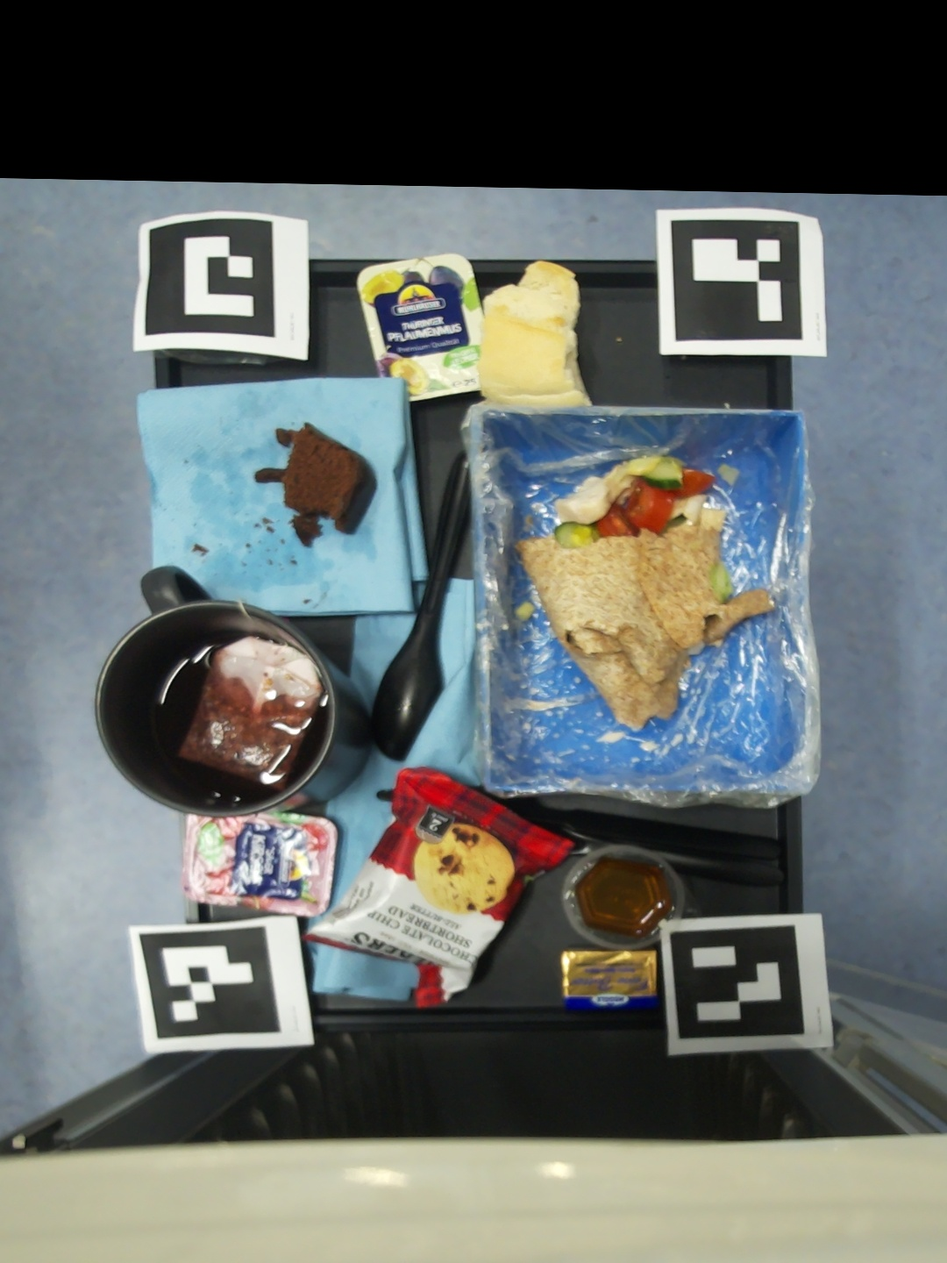bread_roll: (477, 261, 592, 406)
brownie: (256, 422, 376, 548)
butter: (562, 948, 656, 1009)
cherry_jam: (182, 812, 338, 917)
cookie: (302, 765, 574, 1009)
honey: (563, 845, 683, 949)
plum_jam: (356, 254, 483, 402)
tea_cup: (96, 566, 369, 817)
wrap_half_1: (514, 454, 775, 731), (514, 601, 535, 621)
